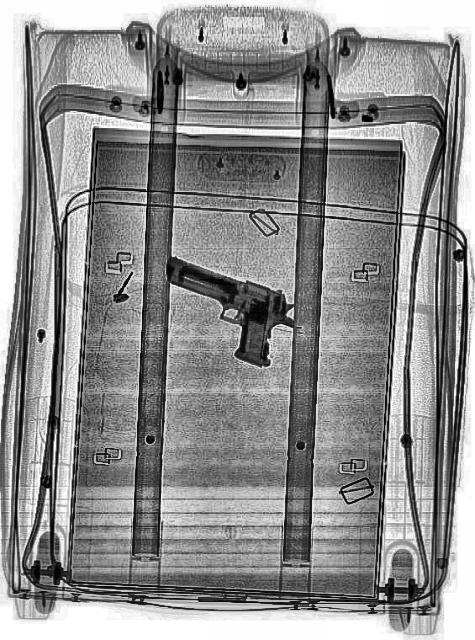Gun: (148, 244, 302, 376)
